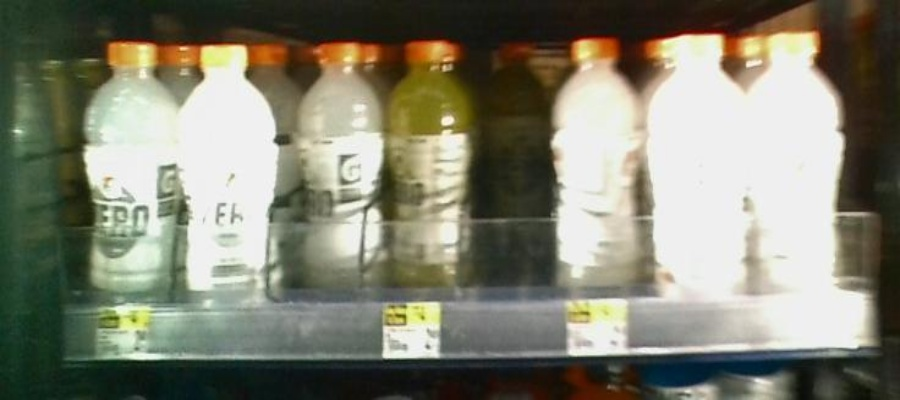bottle: (646, 34, 746, 297), (179, 40, 278, 303), (752, 25, 846, 288), (84, 34, 175, 304), (295, 31, 386, 297), (389, 28, 472, 294), (551, 37, 638, 287), (487, 34, 547, 215)
